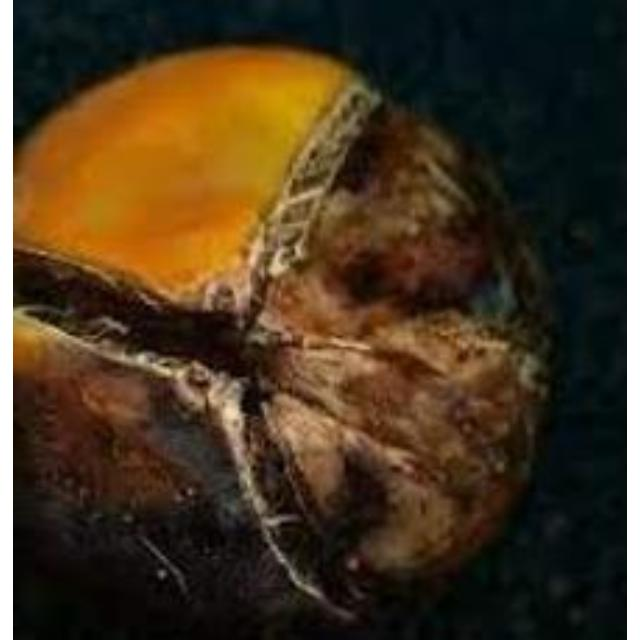damaged: (13, 39, 564, 637)
